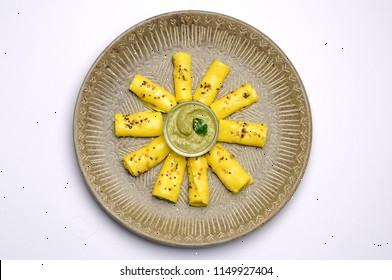khandvi: (140, 158, 261, 208), (130, 58, 258, 102)
